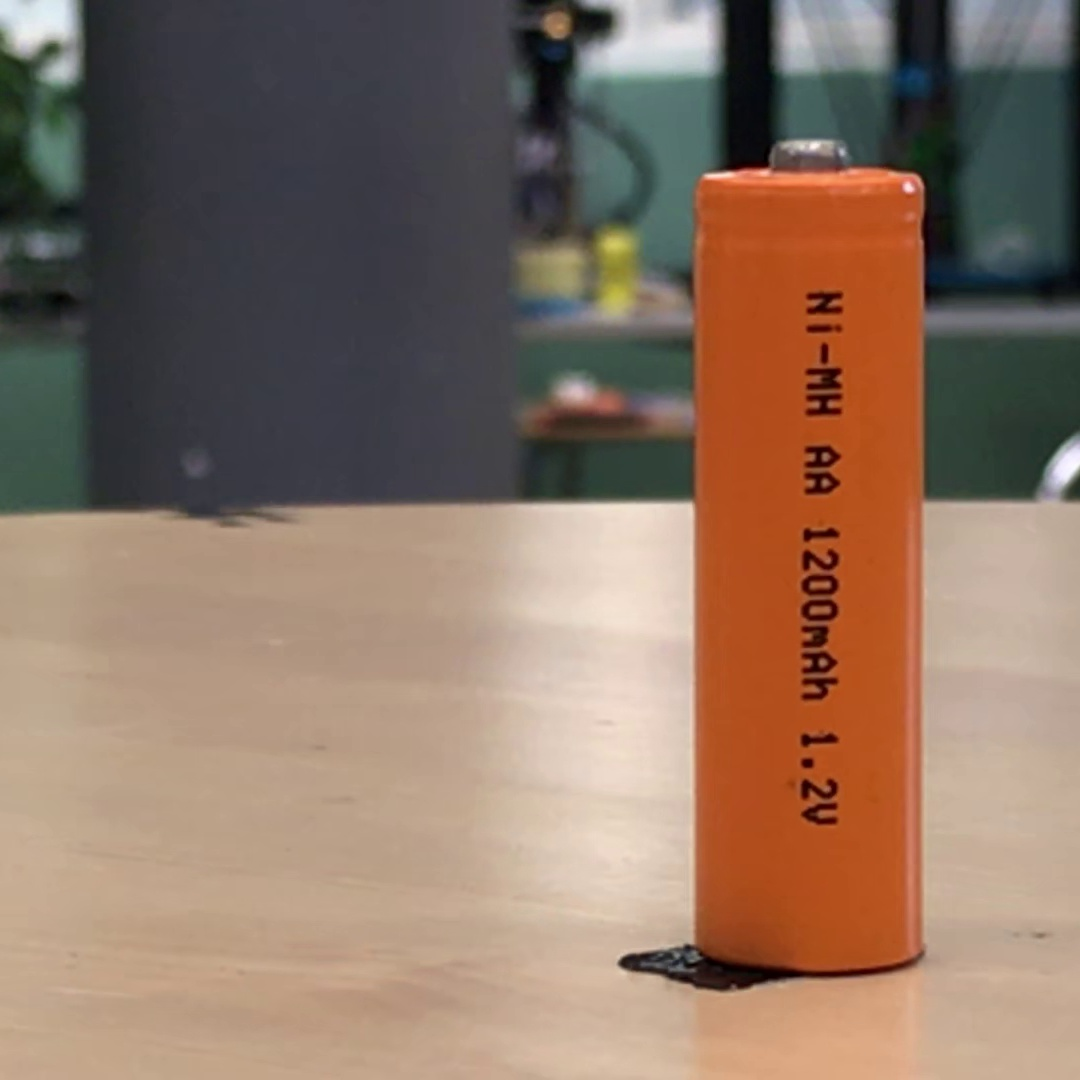keyword: (797, 282, 852, 426), (791, 723, 847, 835)
